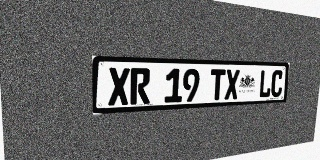1: (164, 68, 183, 103)
9: (182, 69, 200, 102)
C: (270, 70, 283, 97)
L: (258, 70, 272, 98)
R: (130, 68, 150, 105)
T: (209, 69, 226, 100)
X: (108, 67, 130, 106), (224, 69, 240, 100)
